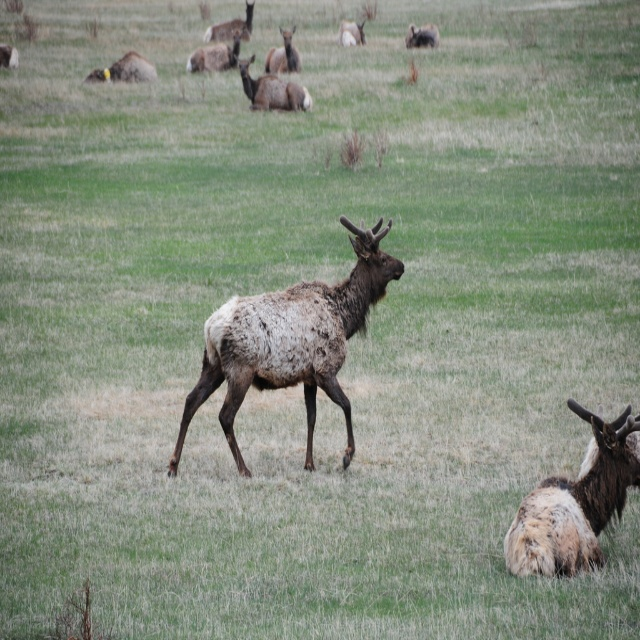Deer: (164, 216, 403, 477), (502, 401, 639, 580), (235, 54, 310, 111), (83, 49, 157, 81), (201, 2, 255, 41), (264, 28, 302, 78), (188, 41, 239, 68), (406, 25, 440, 53), (337, 21, 364, 42), (0, 45, 19, 67)
